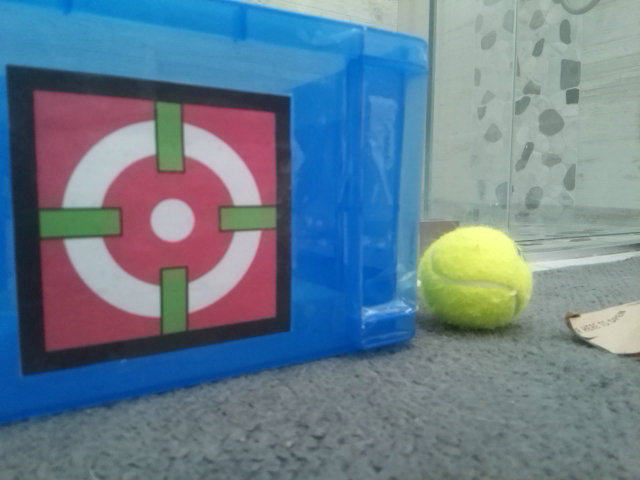drop-bin: (5, 64, 293, 379)
yellow-ball: (420, 222, 535, 331)
